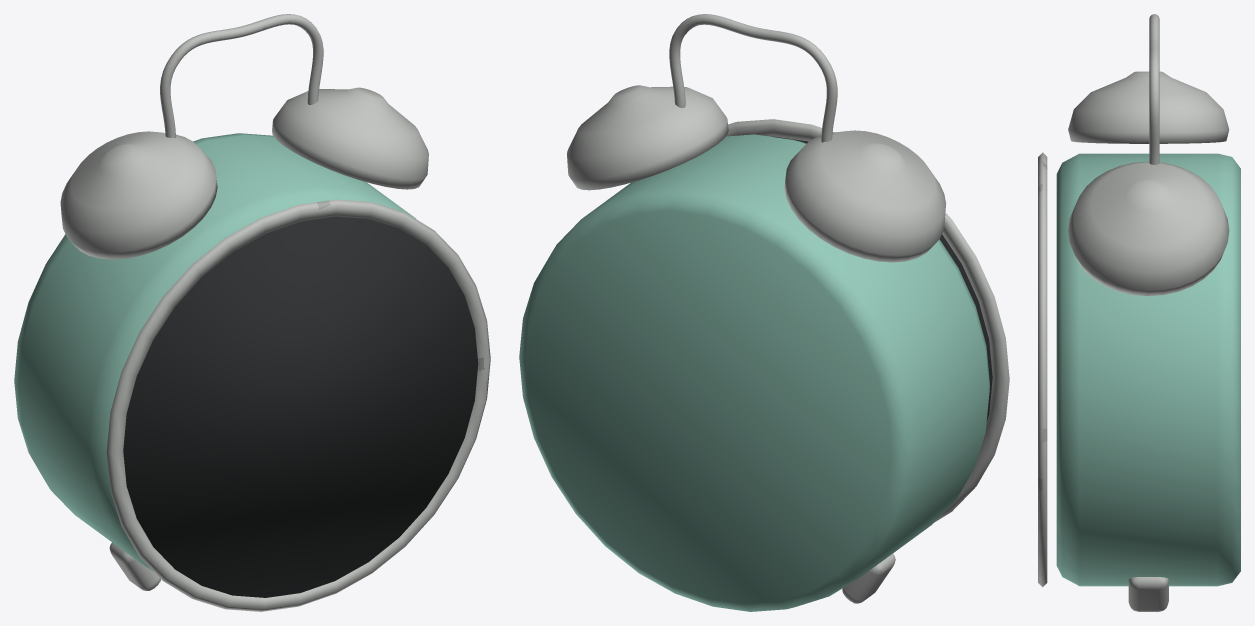
File: result.glb
The picture shows the model from 3 angles, left to right: view 1: azimuth 30°, elevation 25°; view 2: azimuth 150°, elevation 25°; view 3: azimuth 270°, elevation 25°; orthographic projection. The views are drawn at different scales.
Parts seen in each view (by area): view 1: Face, Clock body, Front rim, Bell -1, bell, Top handle, Foot -1; view 2: Clock body, Bell -1, bell, Front rim, Top handle, Foot -1, Face; view 3: Clock body, bell, Bell -1, Front rim, Top handle, Foot 1.
Boxes of the visible parts, bbox=[...] form: Face: bbox=[123, 216, 478, 597]; Clock body: bbox=[14, 133, 415, 571]; Front rim: bbox=[106, 199, 490, 611]; Bell -1: bbox=[60, 131, 217, 259]; bell: bbox=[272, 87, 428, 189]; Top handle: bbox=[160, 14, 323, 137]; Foot -1: bbox=[109, 542, 160, 590]; Clock body: bbox=[519, 134, 989, 611]; Bell -1: bbox=[784, 130, 946, 262]; bell: bbox=[567, 85, 728, 190]; Front rim: bbox=[726, 119, 1009, 522]; Top handle: bbox=[669, 14, 837, 142]; Foot -1: bbox=[842, 553, 895, 603]; Face: bbox=[772, 136, 992, 421]; Clock body: bbox=[1056, 153, 1240, 586]; bell: bbox=[1068, 161, 1229, 296]; Bell -1: bbox=[1068, 71, 1229, 143]; Front rim: bbox=[1038, 152, 1047, 587]; Top handle: bbox=[1149, 14, 1159, 164]; Foot 1: bbox=[1128, 577, 1168, 611].
Size of the model in its own units: 0.756 by 1.02 by 0.352.
Materials: 8 (8 with a texture image).
